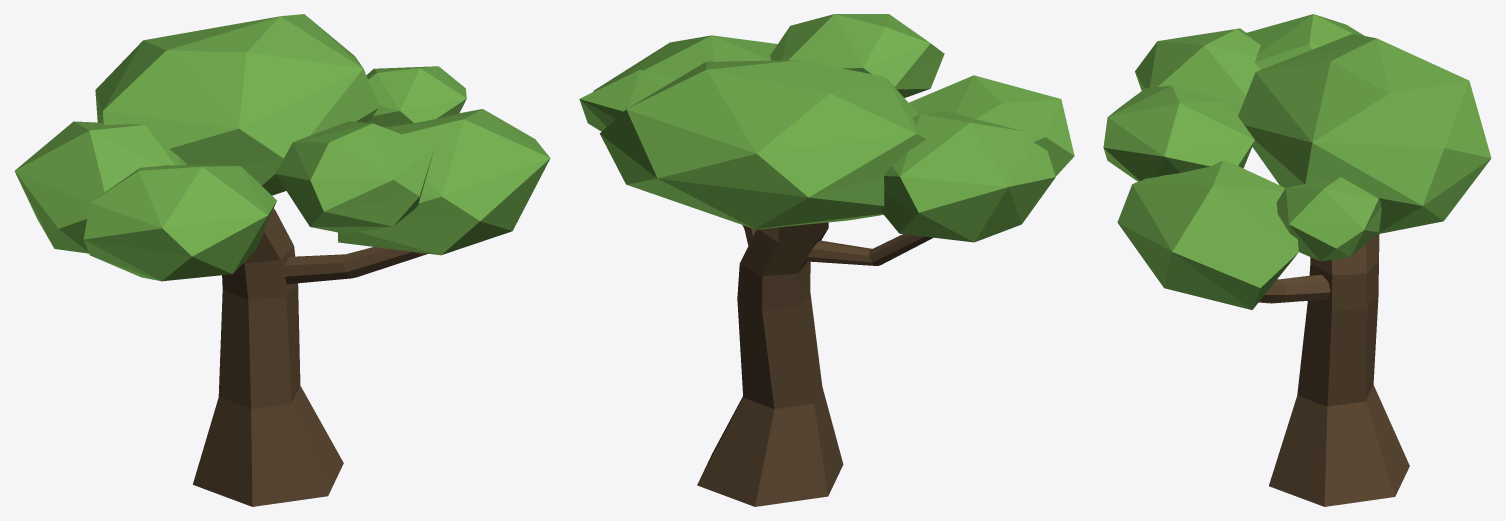
The model's file is Tree_4.fbx.
3 renders of one model, left to right at view 1: azimuth 30°, elevation 25°; view 2: azimuth 150°, elevation 25°; view 3: azimuth 270°, elevation 25°, orthographic. The views are drawn at different scales.
Parts seen in each view (by area): view 1: Tree_4; view 2: Tree_4; view 3: Tree_4.
Part boxes in pixels (<box>): Tree_4: <box>14,14,550,506</box>; Tree_4: <box>579,14,1074,506</box>; Tree_4: <box>1103,14,1491,506</box>.
Size of the model in its own units: 393 by 339 by 296.
